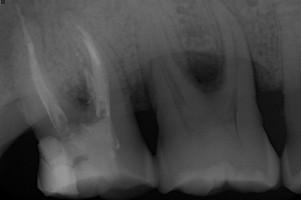Endo-Periodontal Lesion: (183, 49, 224, 89), (67, 84, 91, 106)
